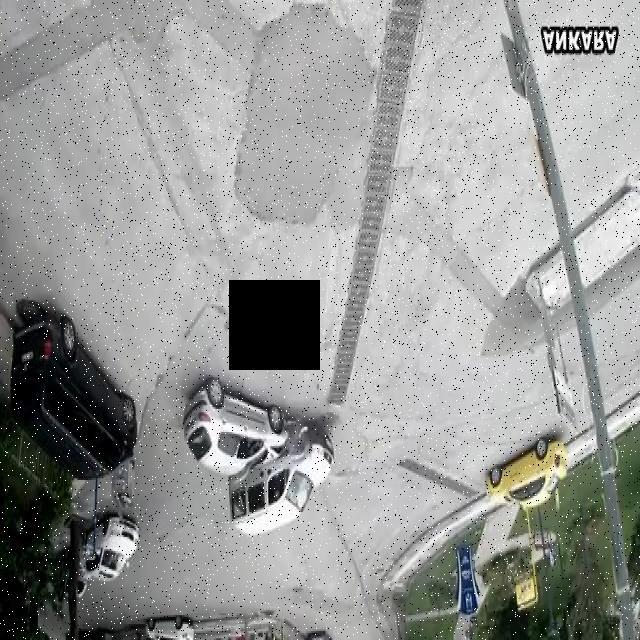moderate: (178, 376, 334, 542)
